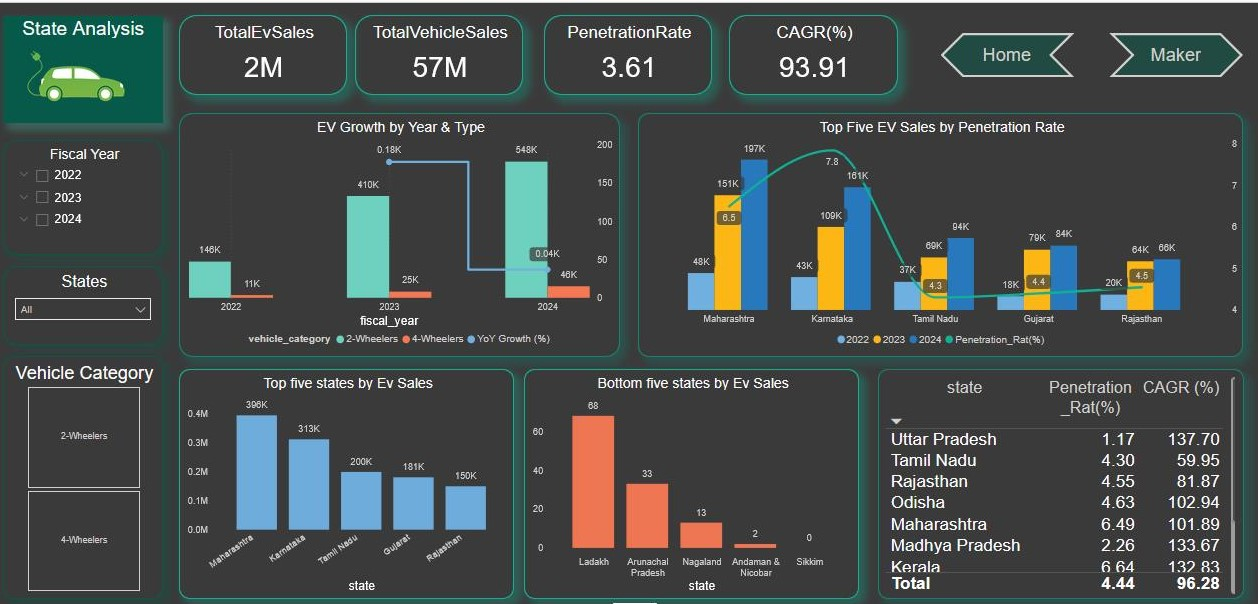

The page's visual inventory and layout, read from the dashboard file:
{"tool":"powerbi","page":{"name":"State ","canvas":[1680,800],"ordinal":1},"visuals":[{"type":"card","title":"TotalEvSales","fields":{"Values":["Key_measures_state.Total_Ev_State"]},"box":[245.7,15.7,222,105.5],"z":0},{"type":"card","title":"TotalVehicleSales","fields":{"Values":["Key_measures_state.Total_vehicle_sales_State"]},"box":[478.7,15.7,222,105.5],"z":1000},{"type":"card","title":"PenetrationRate","fields":{"Values":["Key_measures_state.Penetration_Rat(%)e"]},"box":[727.6,15.7,222,105.5],"z":2000},{"type":"card","title":"CAGR(%)","fields":{"Values":["Key_measures_state.CAGR (%)"]},"box":[971.7,15.7,222,105.5],"z":3000},{"type":"clusteredColumnChart","title":"Top five  states by Ev  Sales ","fields":{"Category":["Sales_State.state"],"Y":["Key_measures_state.Total_Ev_State"]},"box":[245.7,482.3,442.6,303.5],"z":4000},{"type":"clusteredColumnChart","title":"Bottom five  states by Ev  Sales ","fields":{"Category":["Sales_State.state"],"Y":["Key_measures_state.Total_Ev_State"]},"box":[700.9,482.3,442.6,303.5],"z":5000},{"type":"lineClusteredColumnComboChart","title":"Top Five EV Sales by Penetration Rate ","fields":{"Category":["Sales_State.state"],"Y":["Key_measures_state.Total_Ev_State"],"Y2":["Key_measures_state.Penetration_Rat(%)e"],"Series":["dim_date.fiscal_year"]},"box":[850.8,144.5,798.5,321.5],"z":6000},{"type":"tableEx","fields":{"Values":["Sales_State.state","Key_measures_state.Penetration_Rat(%)e","Key_measures_state.CAGR (%)"]},"box":[1167,482.3,482.3,303.5],"z":7000},{"type":"lineClusteredColumnComboChart","title":"EV Growth by Year & Type","fields":{"Y2":["Key_measures_state.YoY Growth (%)"],"Y":["Sum(Sales_State.electric_vehicles_sold)"],"Series":["Sales_State.vehicle_category"],"Category":["dim_date.fiscal_year"]},"box":[245.7,144.5,581.7,321.5],"z":8000},{"type":"slicer","title":"States","fields":{"Values":["dim_state.state"]},"box":[14.5,346.8,211.4,103],"z":9000},{"type":"slicer","title":"Vehicle Category","fields":{"Values":["dim_category.vehicle_category"]},"box":[14.5,466.1,211.4,319.7],"z":10000},{"type":"slicer","title":"Fiscal Year","fields":{"Values":["dim_date.fiscal_year","dim_date.quarter"]},"box":[14.5,180.6,211.4,151.7],"z":11000},{"type":"actionButton","box":[1472.4,39.4,176.4,58.3],"z":12000},{"type":"actionButton","box":[1250.4,39.4,176.4,58.3],"z":13000},{"type":"image","title":"State Analysis","box":[14.5,16.3,211.4,140.9],"z":14000}]}

Visuals, with their boxes in screenshot pixels (x1, y1, x2, y2), scaled from the page's 1680x800 canvas onto the 1258x604 screenshot:
"TotalEvSales" card: detection(184, 12, 350, 92)
"TotalVehicleSales" card: detection(358, 12, 525, 92)
"PenetrationRate" card: detection(545, 12, 711, 92)
"CAGR(%)" card: detection(728, 12, 894, 92)
"Top five  states by Ev  Sales " clusteredColumnChart: detection(184, 364, 515, 593)
"Bottom five  states by Ev  Sales " clusteredColumnChart: detection(525, 364, 856, 593)
"Top Five EV Sales by Penetration Rate " lineClusteredColumnComboChart: detection(637, 109, 1235, 352)
tableEx - Sales_State.state x Key_measures_state.Penetration_Rat(%)e: detection(874, 364, 1235, 593)
"EV Growth by Year & Type" lineClusteredColumnComboChart: detection(184, 109, 620, 352)
"States" slicer: detection(11, 262, 169, 340)
"Vehicle Category" slicer: detection(11, 352, 169, 593)
"Fiscal Year" slicer: detection(11, 136, 169, 251)
actionButton: detection(1103, 30, 1235, 74)
actionButton: detection(936, 30, 1068, 74)
"State Analysis" image: detection(11, 12, 169, 119)
